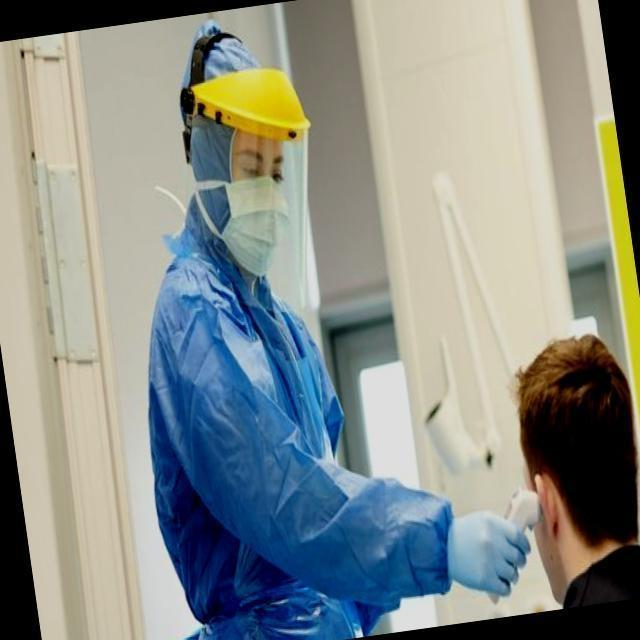apron: (452, 510, 536, 600)
